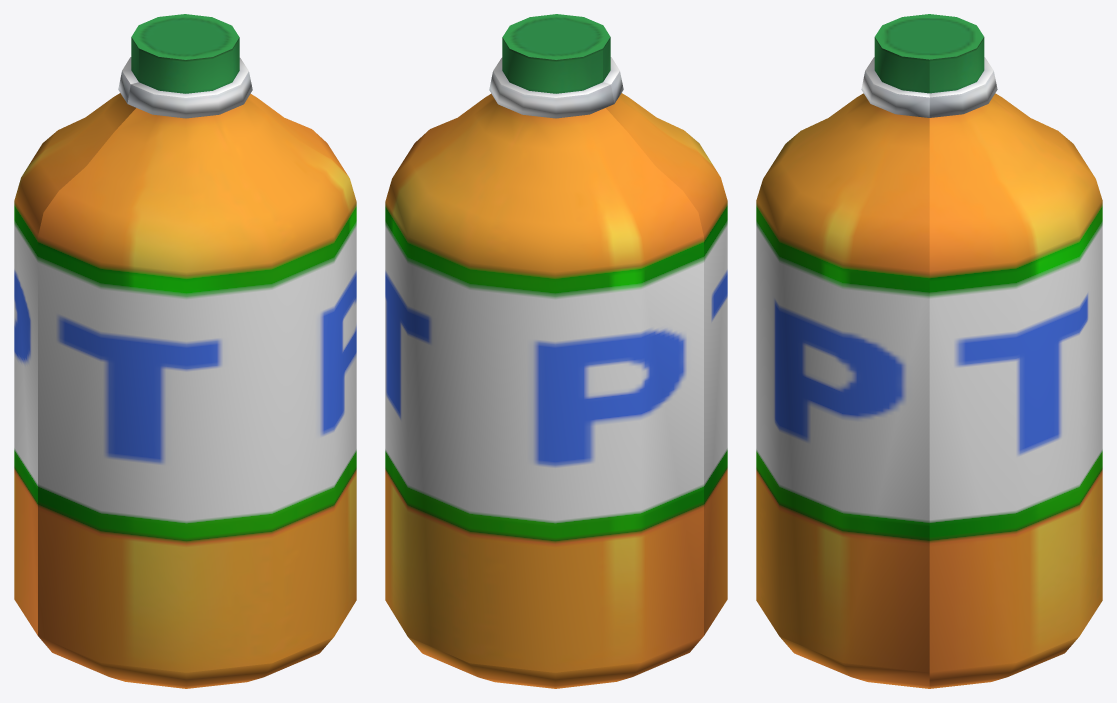
Rendered from TPDrinkMaxGround.fbx.
3 views of the same model, side by side, from view 1: azimuth 30°, elevation 25°; view 2: azimuth 150°, elevation 25°; view 3: azimuth 270°, elevation 25° (orthographic).
Visible parts, largest first — view 1: TP_Drink; view 2: TP_Drink; view 3: TP_Drink.
Boxes of the visible parts, left/top/right/bottom form: TP_Drink: left=14, top=14, right=356, bottom=688; TP_Drink: left=385, top=14, right=727, bottom=688; TP_Drink: left=756, top=14, right=1102, bottom=688.
Size of the model in its own units: 0.0486 by 0.0943 by 0.0493.
